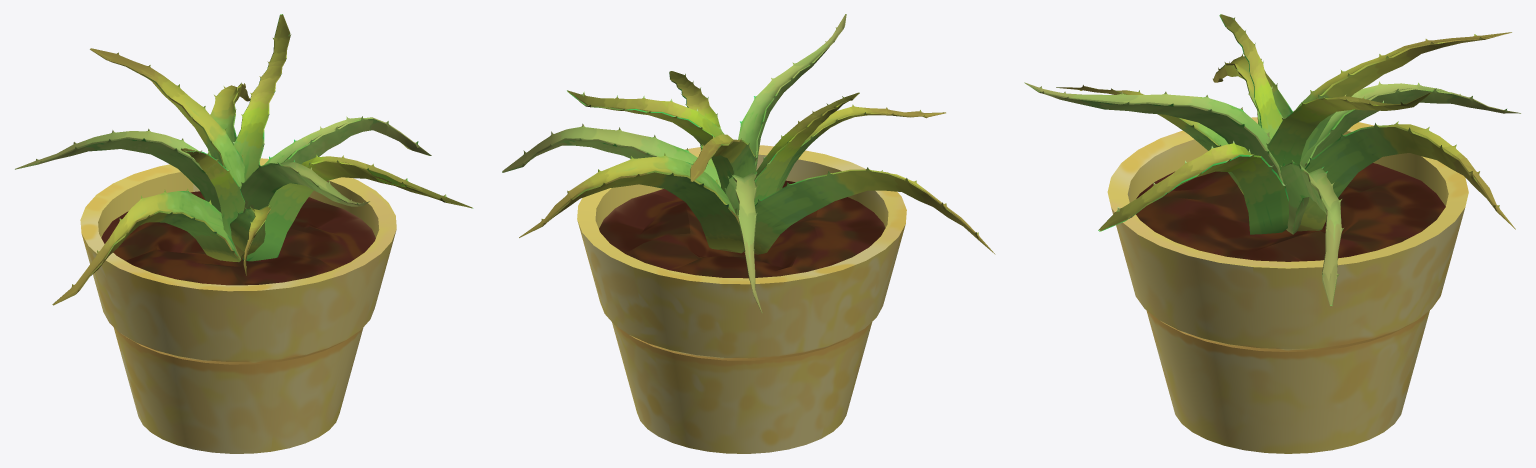
Rendered from aloevera_horrible.glb.
3 views of the same model, side by side, from view 1: azimuth 30°, elevation 25°; view 2: azimuth 150°, elevation 25°; view 3: azimuth 270°, elevation 25° (orthographic). The views are drawn at different scales.
Parts seen in each view (by area): view 1: Pot, Leaf.001, Leaf.003, Leaf.005, Leaf.007, Leaf, Leaf.006, Leaf.002, Leaf.009, Leaf.008, Leaf.004; view 2: Pot, Leaf.004, Leaf.001, Leaf.002, Leaf, Leaf.006, Leaf.009, Leaf.005, Leaf.007, Leaf.008, Leaf.003; view 3: Pot, Leaf.004, Leaf.003, Leaf.006, Leaf.002, Leaf.007, Leaf.005, Leaf, Leaf.009, Leaf.008, Leaf.001.
Part boxes in pixels (x1,y1,x2,y2): Pot: [80, 158, 396, 453]; Leaf.001: [52, 188, 241, 305]; Leaf.003: [243, 155, 473, 261]; Leaf.005: [15, 128, 221, 212]; Leaf.007: [90, 48, 244, 188]; Leaf: [220, 14, 291, 212]; Leaf.006: [240, 160, 369, 212]; Leaf.002: [264, 116, 431, 164]; Leaf.009: [181, 147, 245, 239]; Leaf.008: [230, 203, 271, 275]; Leaf.004: [208, 82, 250, 155]; Pot: [577, 145, 906, 453]; Leaf.004: [519, 153, 744, 253]; Leaf.001: [754, 167, 995, 254]; Leaf.002: [502, 123, 720, 187]; Leaf: [567, 90, 733, 193]; Leaf.006: [738, 14, 846, 168]; Leaf.009: [754, 92, 859, 204]; Leaf.005: [724, 172, 762, 312]; Leaf.007: [690, 131, 757, 218]; Leaf.008: [776, 104, 945, 191]; Leaf.003: [669, 71, 719, 168]; Pot: [1107, 117, 1468, 453]; Leaf.004: [1297, 121, 1515, 231]; Leaf.003: [1098, 141, 1288, 234]; Leaf.006: [1024, 82, 1285, 188]; Leaf.002: [1280, 160, 1343, 305]; Leaf.007: [1282, 32, 1511, 166]; Leaf.005: [1300, 81, 1520, 168]; Leaf: [1266, 92, 1431, 170]; Leaf.009: [1219, 14, 1282, 139]; Leaf.008: [1056, 85, 1243, 194]; Leaf.001: [1212, 53, 1292, 126].
Bounding box in the file's own units: 6.36 × 4.65 × 5.64.
4 materials, 4 textured.
